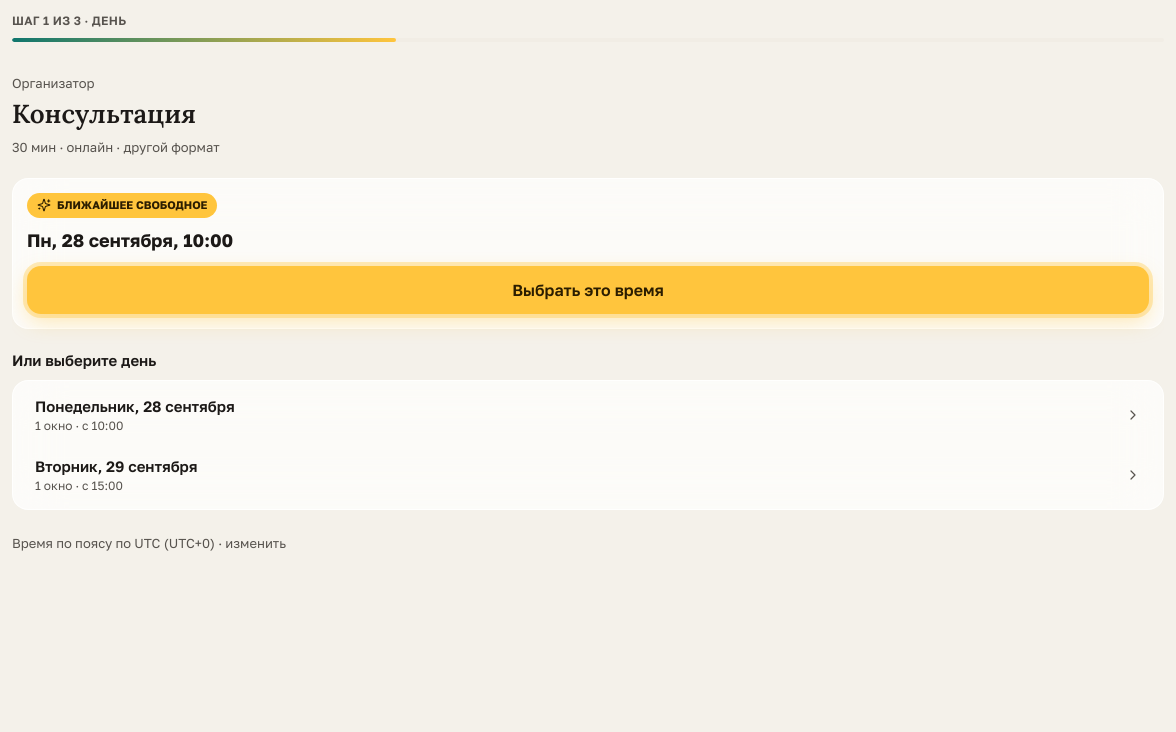
BookingWizard › «Ближайшее свободное» ведёт сразу к контактам
Click the button "Выбрать это время": (588, 290) [27, 266, 1149, 314]
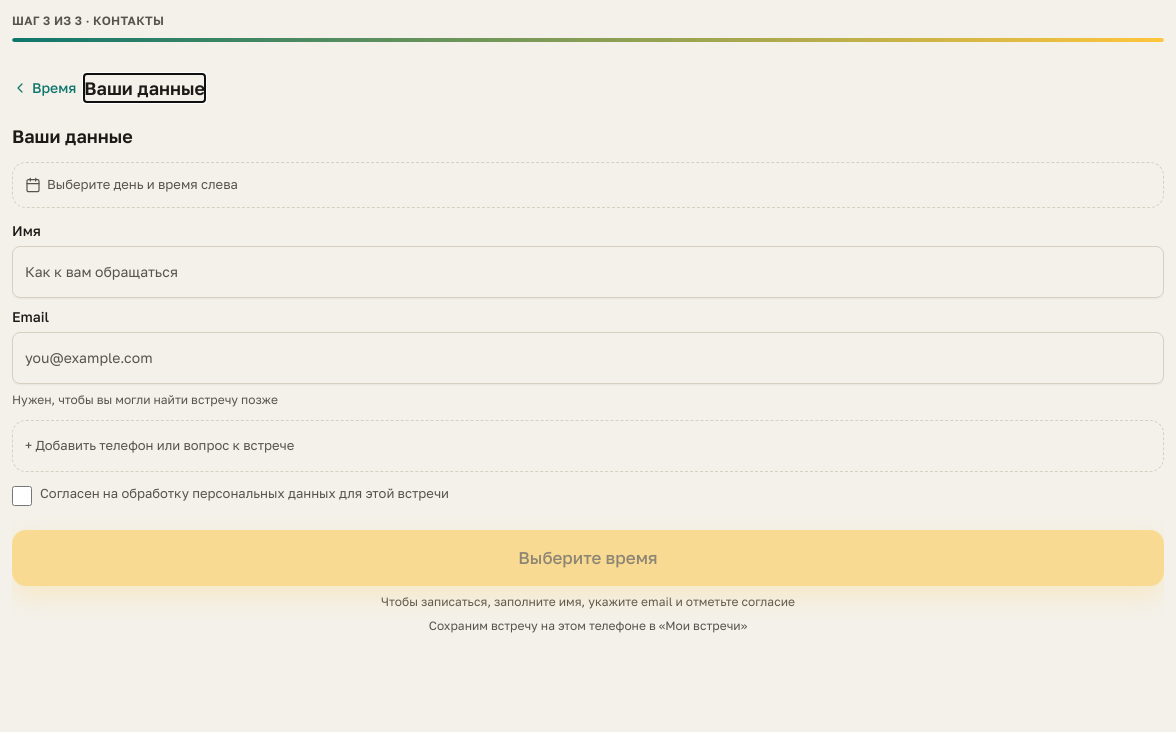
Expected: the text "ШАГ 3 ИЗ 3 · КОНТАКТЫ" is shown, [12, 13, 164, 28]
Expected: the form named "Ваши данные" is shown, [12, 224, 1164, 634]
